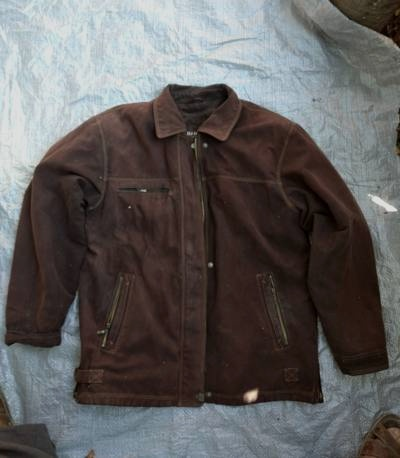Blazer: (6, 77, 385, 415)
